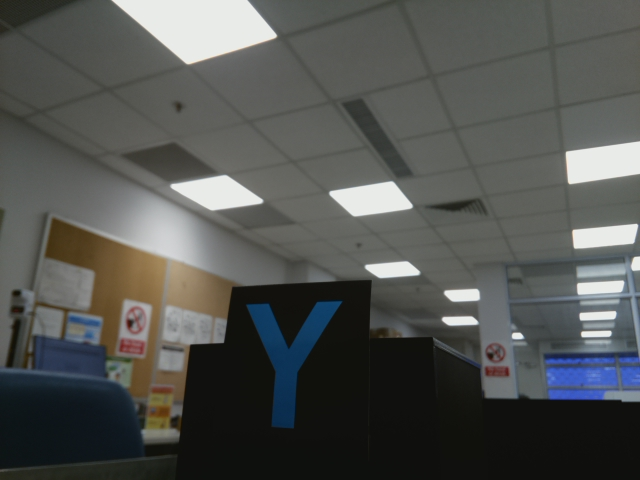y: (233, 296, 352, 429)
